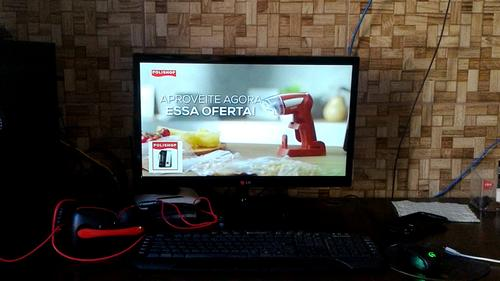Polishop #1: (148, 140, 183, 173)
